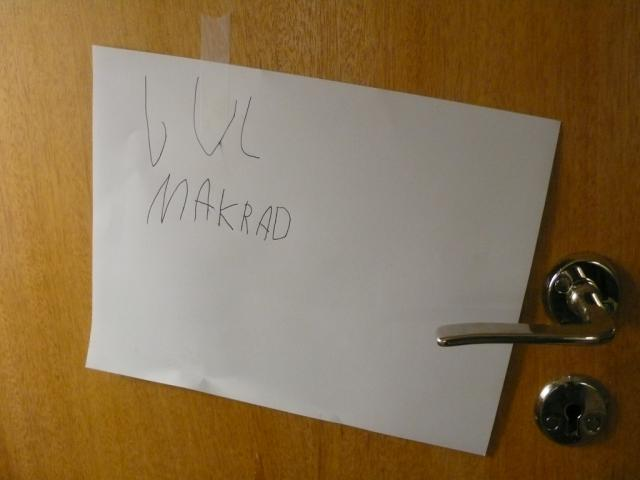Door-handle: (433, 249, 624, 346)
